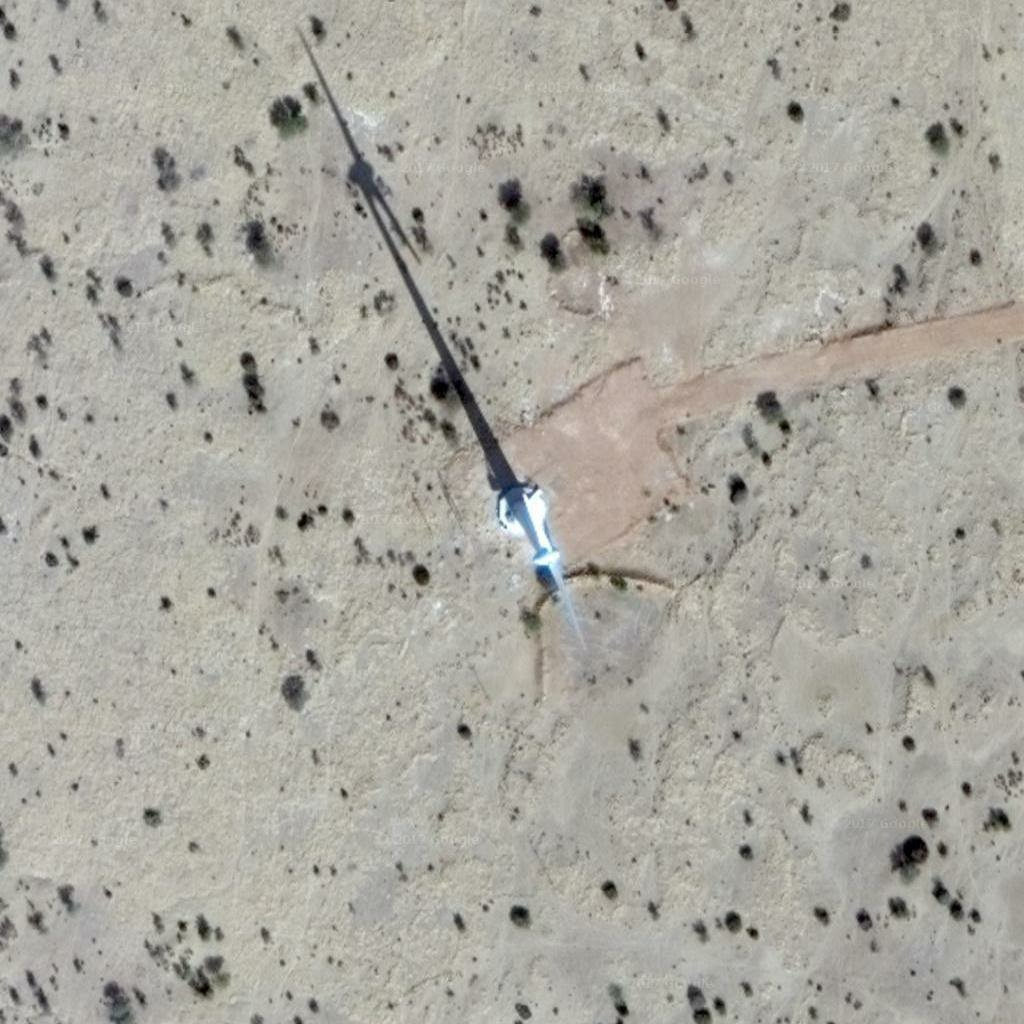Windmill: (292, 33, 532, 495)
